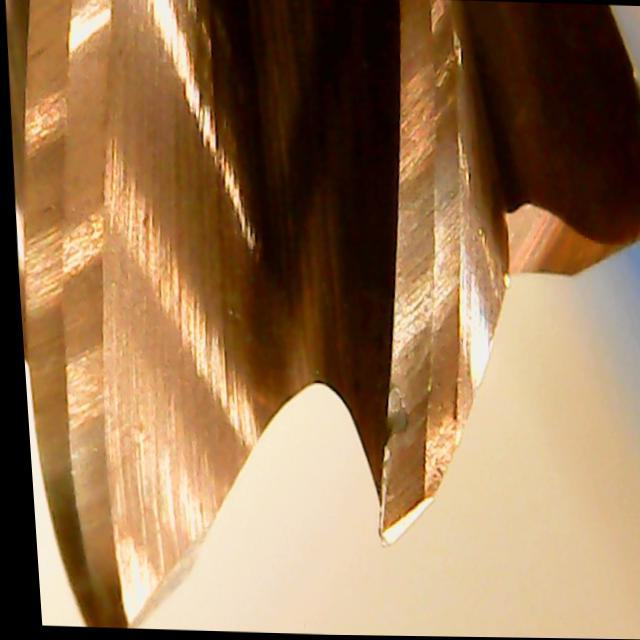Tool-wear-class-1: (332, 242, 506, 552)
